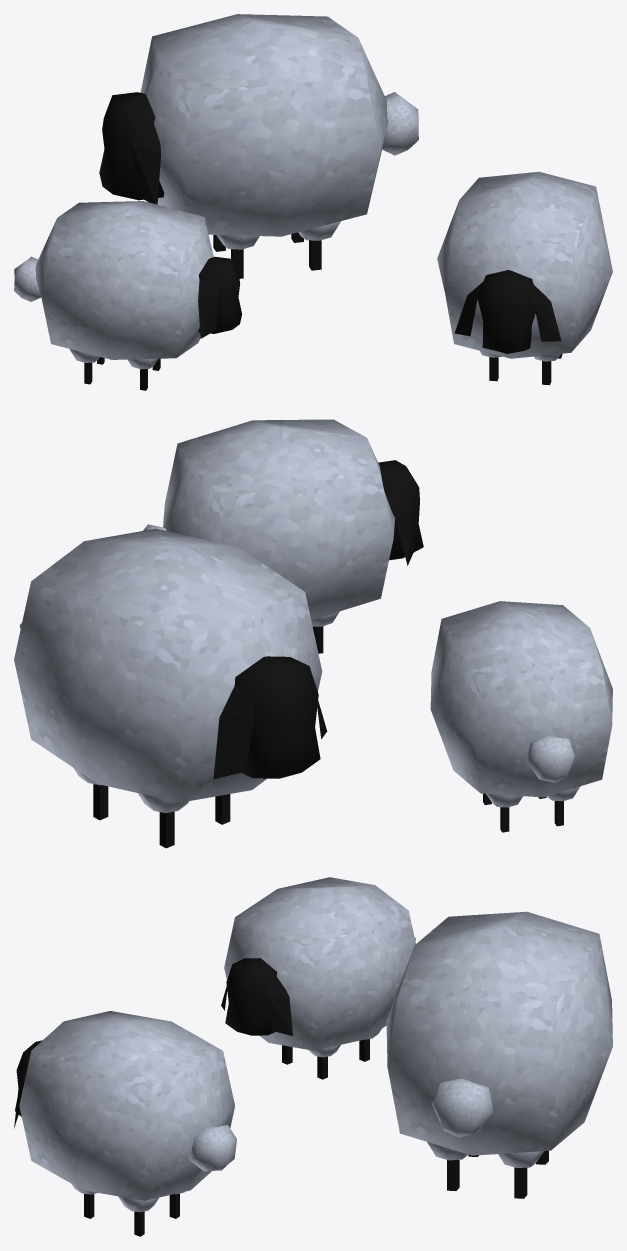
The model's file is sheep.FBX.
3 renders of one model, top to bottom at view 1: azimuth 30°, elevation 25°; view 2: azimuth 150°, elevation 25°; view 3: azimuth 270°, elevation 25°, orthographic. The views are drawn at different scales.
Parts seen in each view (by area): view 1: Box020; view 2: Box020; view 3: Box020.
Boxes of the visible parts, x1,y1,x2,y2 form: Box020: (14, 14, 612, 390); Box020: (14, 419, 612, 848); Box020: (14, 877, 612, 1236).
Size of the model in its own units: 1.51 by 1.6 by 0.7209.
Materials: 1 (1 with a texture image).
